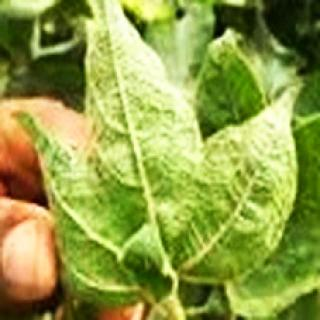curl: (25, 53, 303, 309)
